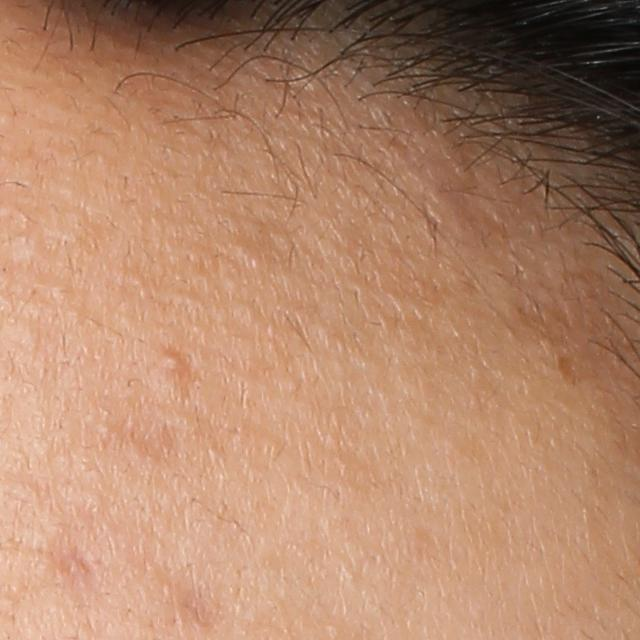comedo: (162, 352, 185, 374)
